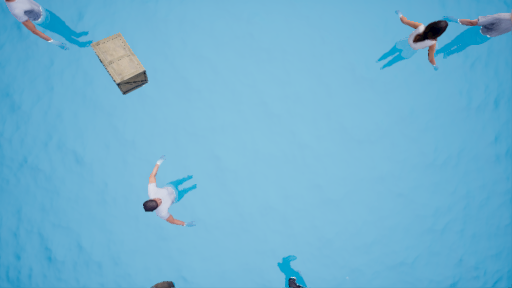person: (372, 10, 441, 77), (8, 1, 92, 49), (137, 161, 196, 229), (448, 8, 509, 66)
